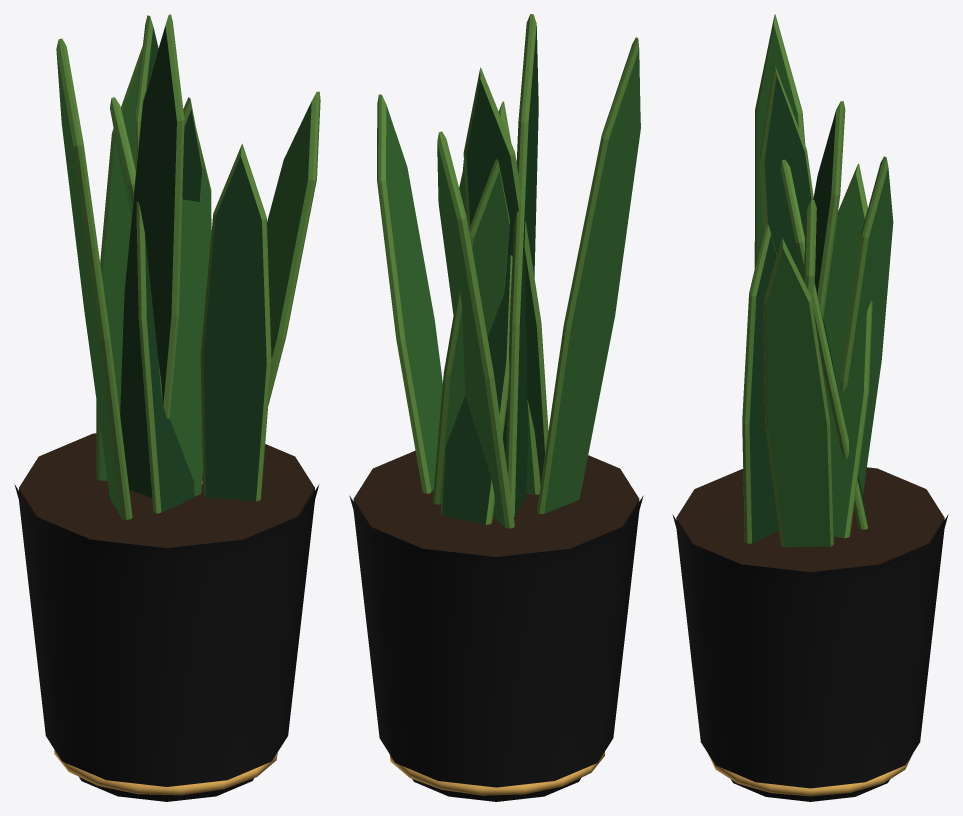
File: plant_spiky.glb
3 views of the same model, side by side, from view 1: azimuth 30°, elevation 25°; view 2: azimuth 150°, elevation 25°; view 3: azimuth 270°, elevation 25° (orthographic). The views are drawn at different scales.
Parts seen in each view (by area): view 1: PlantSpiky; view 2: PlantSpiky; view 3: PlantSpiky.
Part boxes in pixels (x1,y1,x2,y2): PlantSpiky: [14, 14, 320, 801]; PlantSpiky: [349, 14, 643, 801]; PlantSpiky: [672, 14, 948, 801].
Bounding box in the file's own units: 0.3483 × 0.9428 × 0.34.
